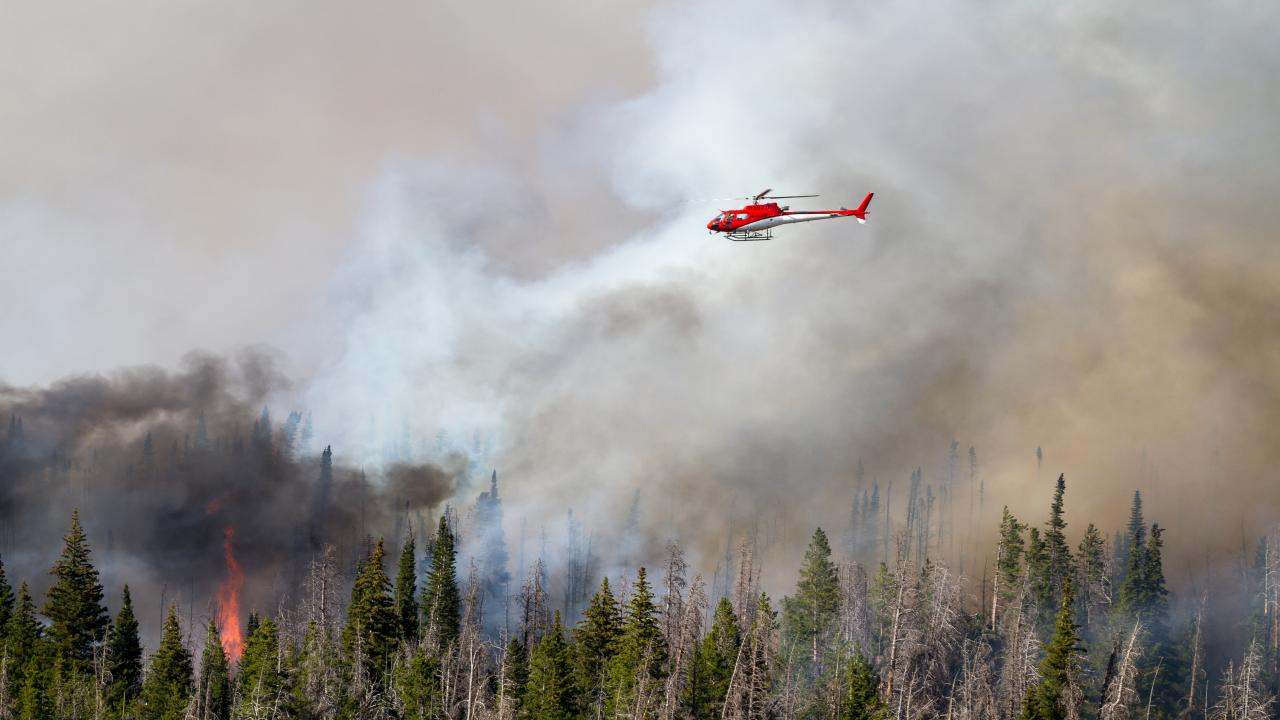Helicopter: (680, 159, 896, 279)
